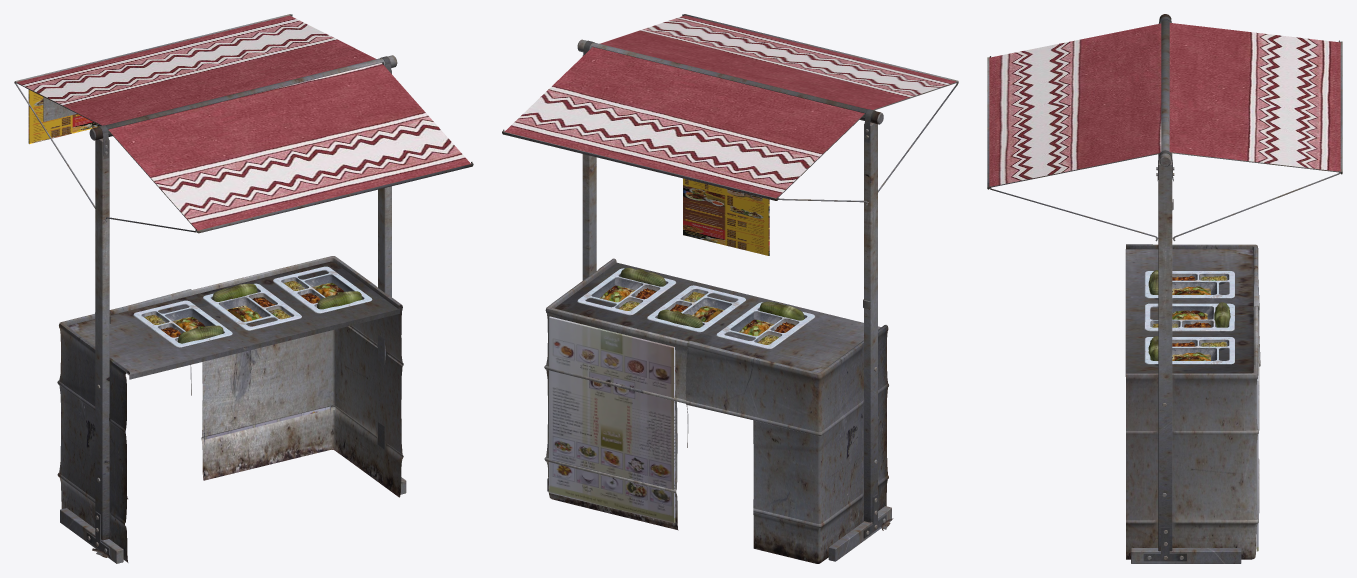
The model's file is stall3.gltf.
3 renders of one model, left to right at view 1: azimuth 30°, elevation 25°; view 2: azimuth 150°, elevation 25°; view 3: azimuth 270°, elevation 25°, orthographic. The views are drawn at different scales.
Parts seen in each view (by area): view 1: stall3; view 2: stall3; view 3: stall3.
Boxes of the visible parts, x1,y1,x2,y2 form: stall3: [14, 14, 473, 563]; stall3: [502, 14, 958, 563]; stall3: [987, 14, 1342, 563].
Bounding box in the file's own units: 1.66 × 2.22 × 1.74.
6 materials, 6 textured.
